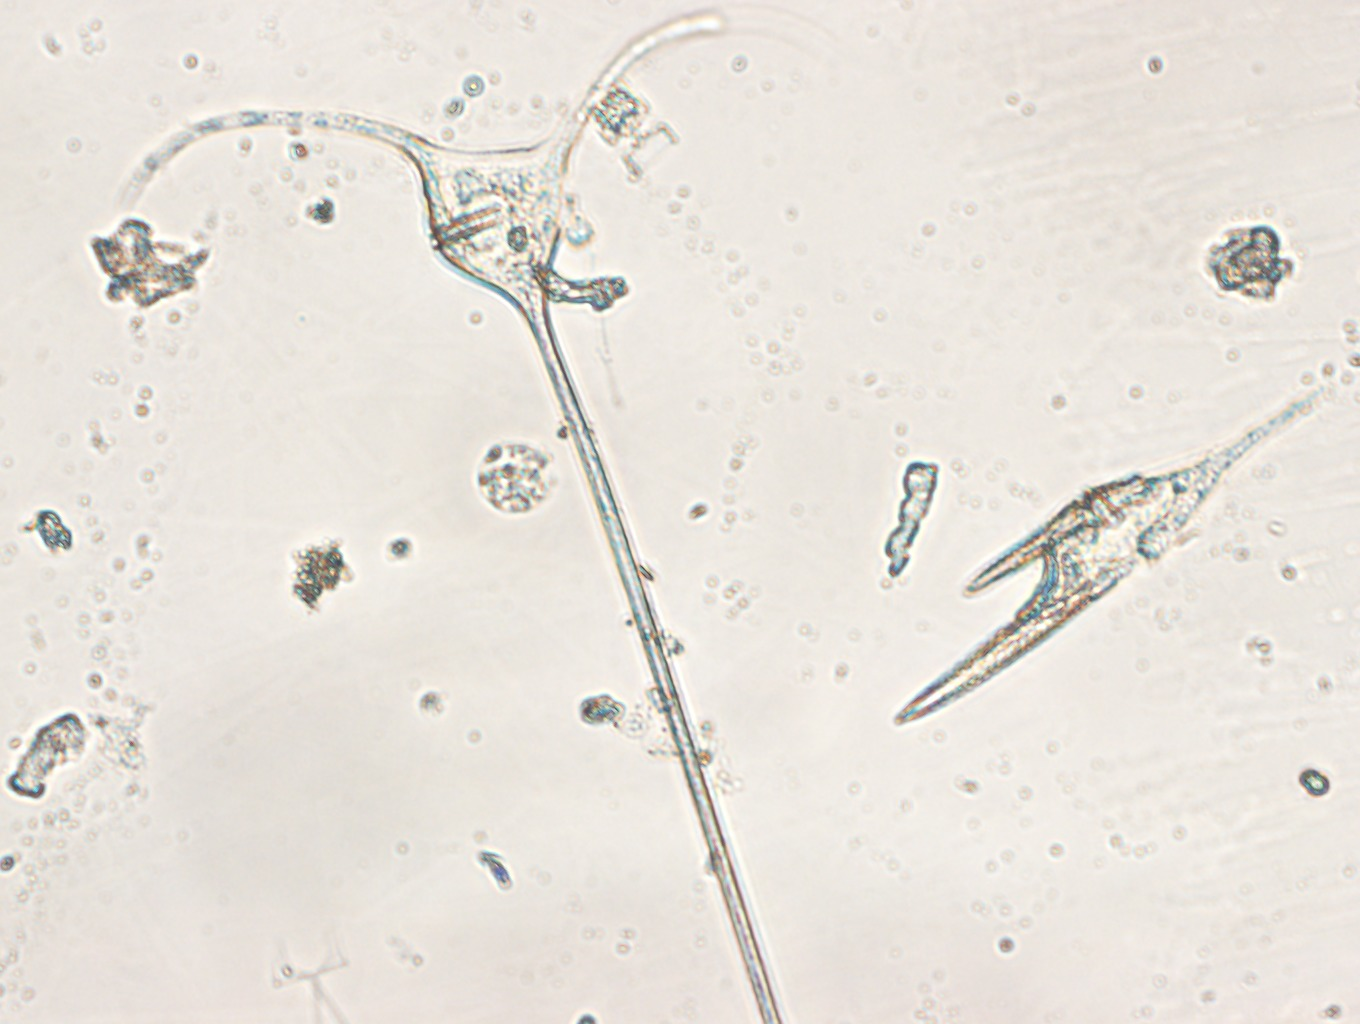ceratium furca: (891, 376, 1340, 735)
ceratium trichoceros: (116, 3, 832, 1024)
